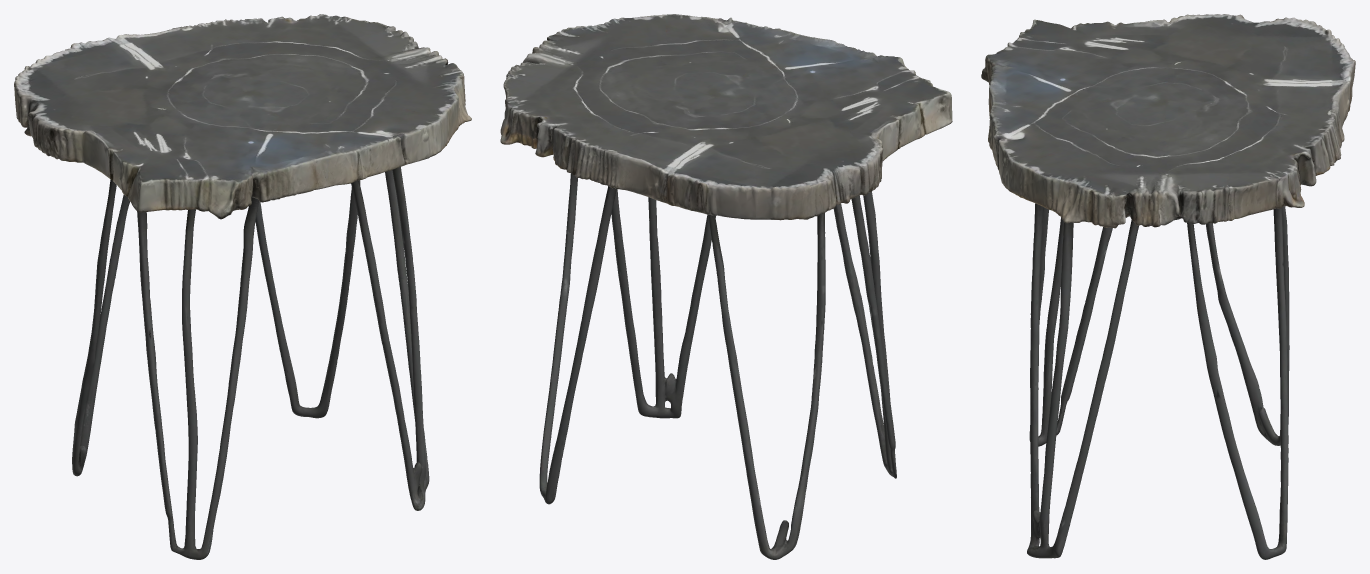
Rendered from furn-01-petrified-forest-table-meshy.glb.
The picture shows the model from 3 angles, left to right: view 1: azimuth 30°, elevation 25°; view 2: azimuth 150°, elevation 25°; view 3: azimuth 270°, elevation 25°; orthographic projection.
Bounding box in the file's own units: 1.97 × 2 × 1.68.
1 material, 1 textured.
